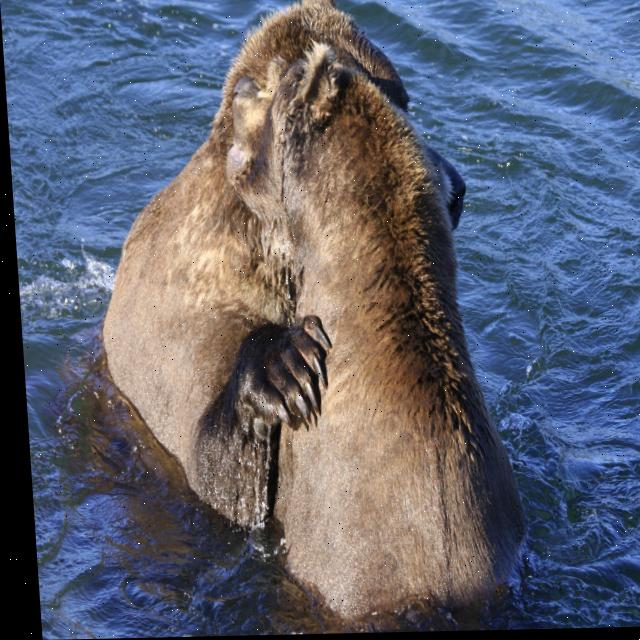bear face: (82, 0, 477, 487), (215, 45, 483, 595)
